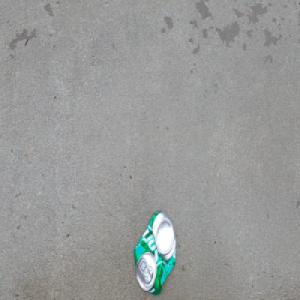SodaCan: (133, 208, 178, 296)
